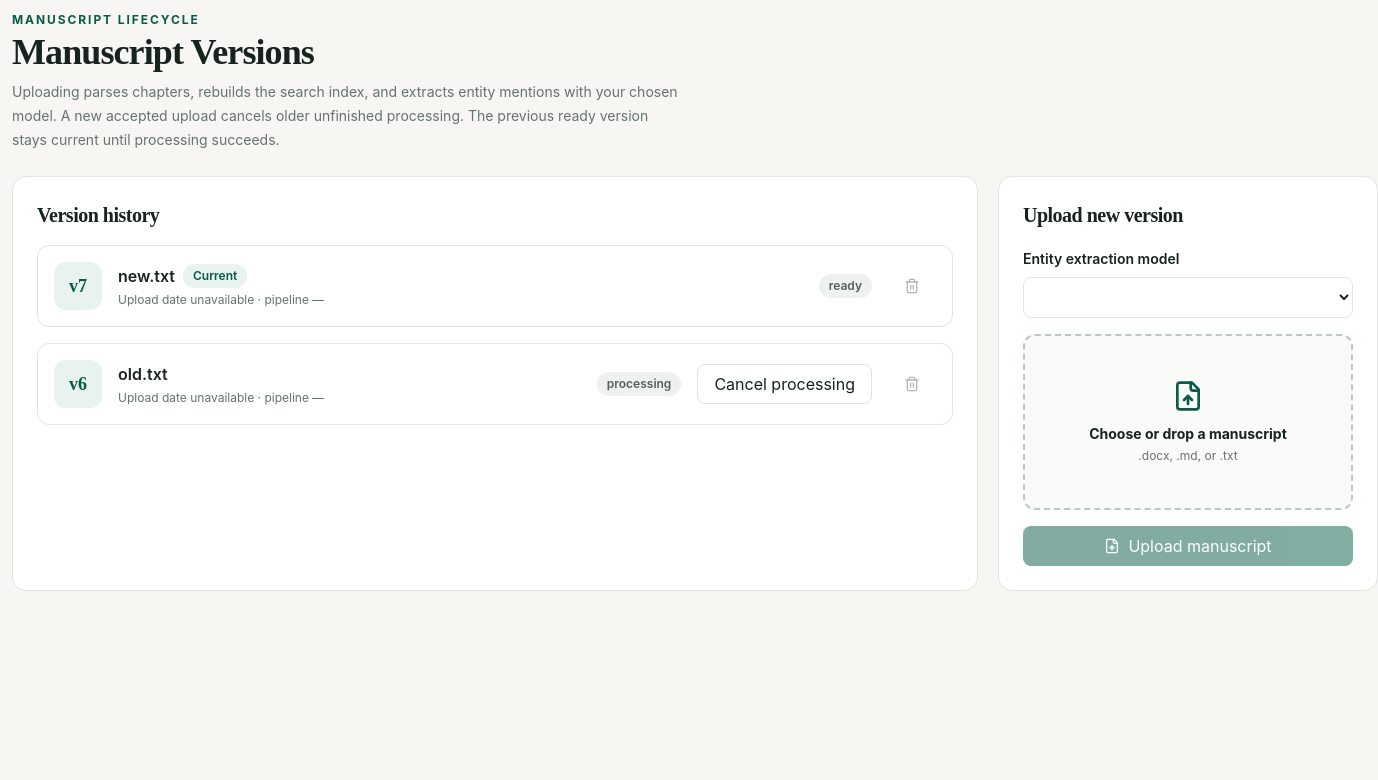
Test: cancels a processing version after reload (failure=true)
The image size is (1378, 780).
Click the button with aria-label "Cancel processing version 6": (785, 384) left=697, top=364, right=872, bottom=404
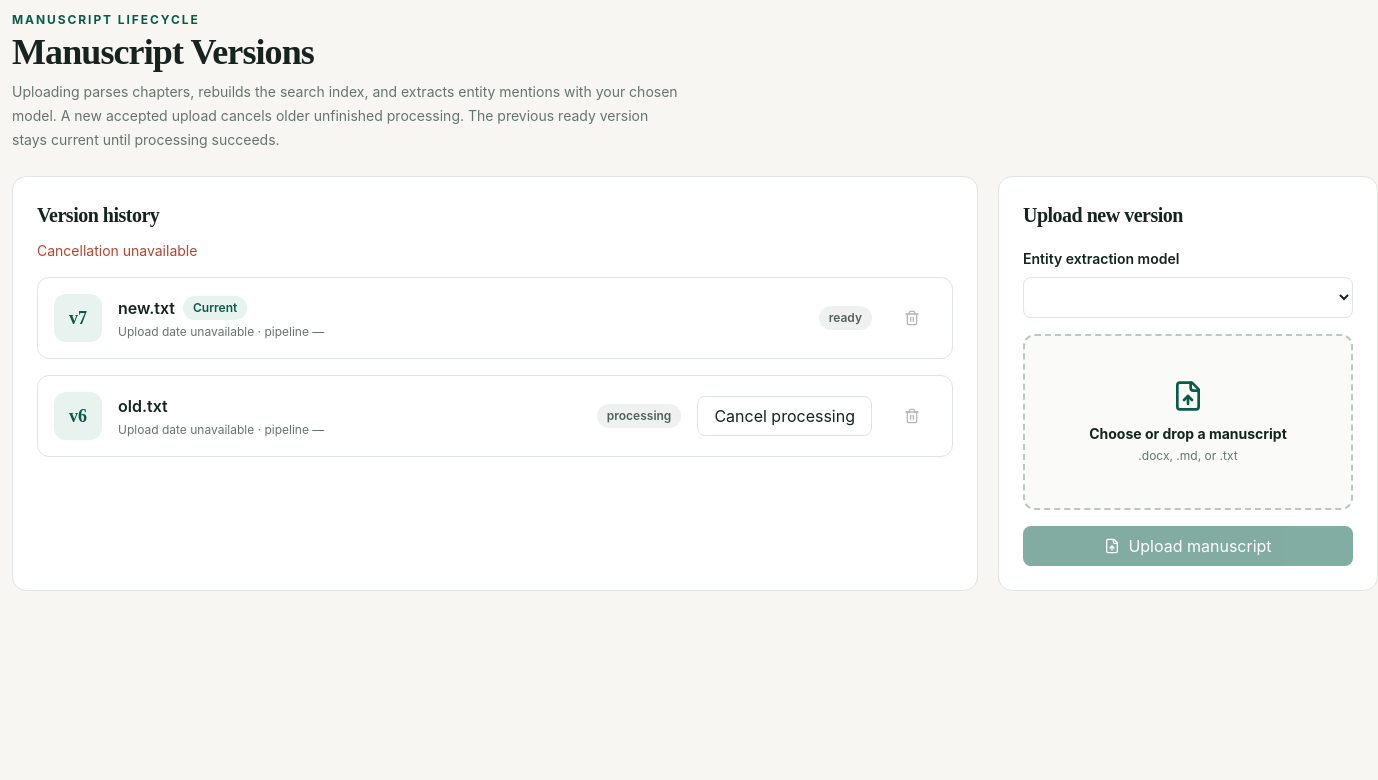
Expected: the button with aria-label "Cancel processing version 6" is enabled, left=697, top=396, right=872, bottom=436
Result: the message reads "Cancellation unavailable" at left=37, top=242, right=197, bottom=259
